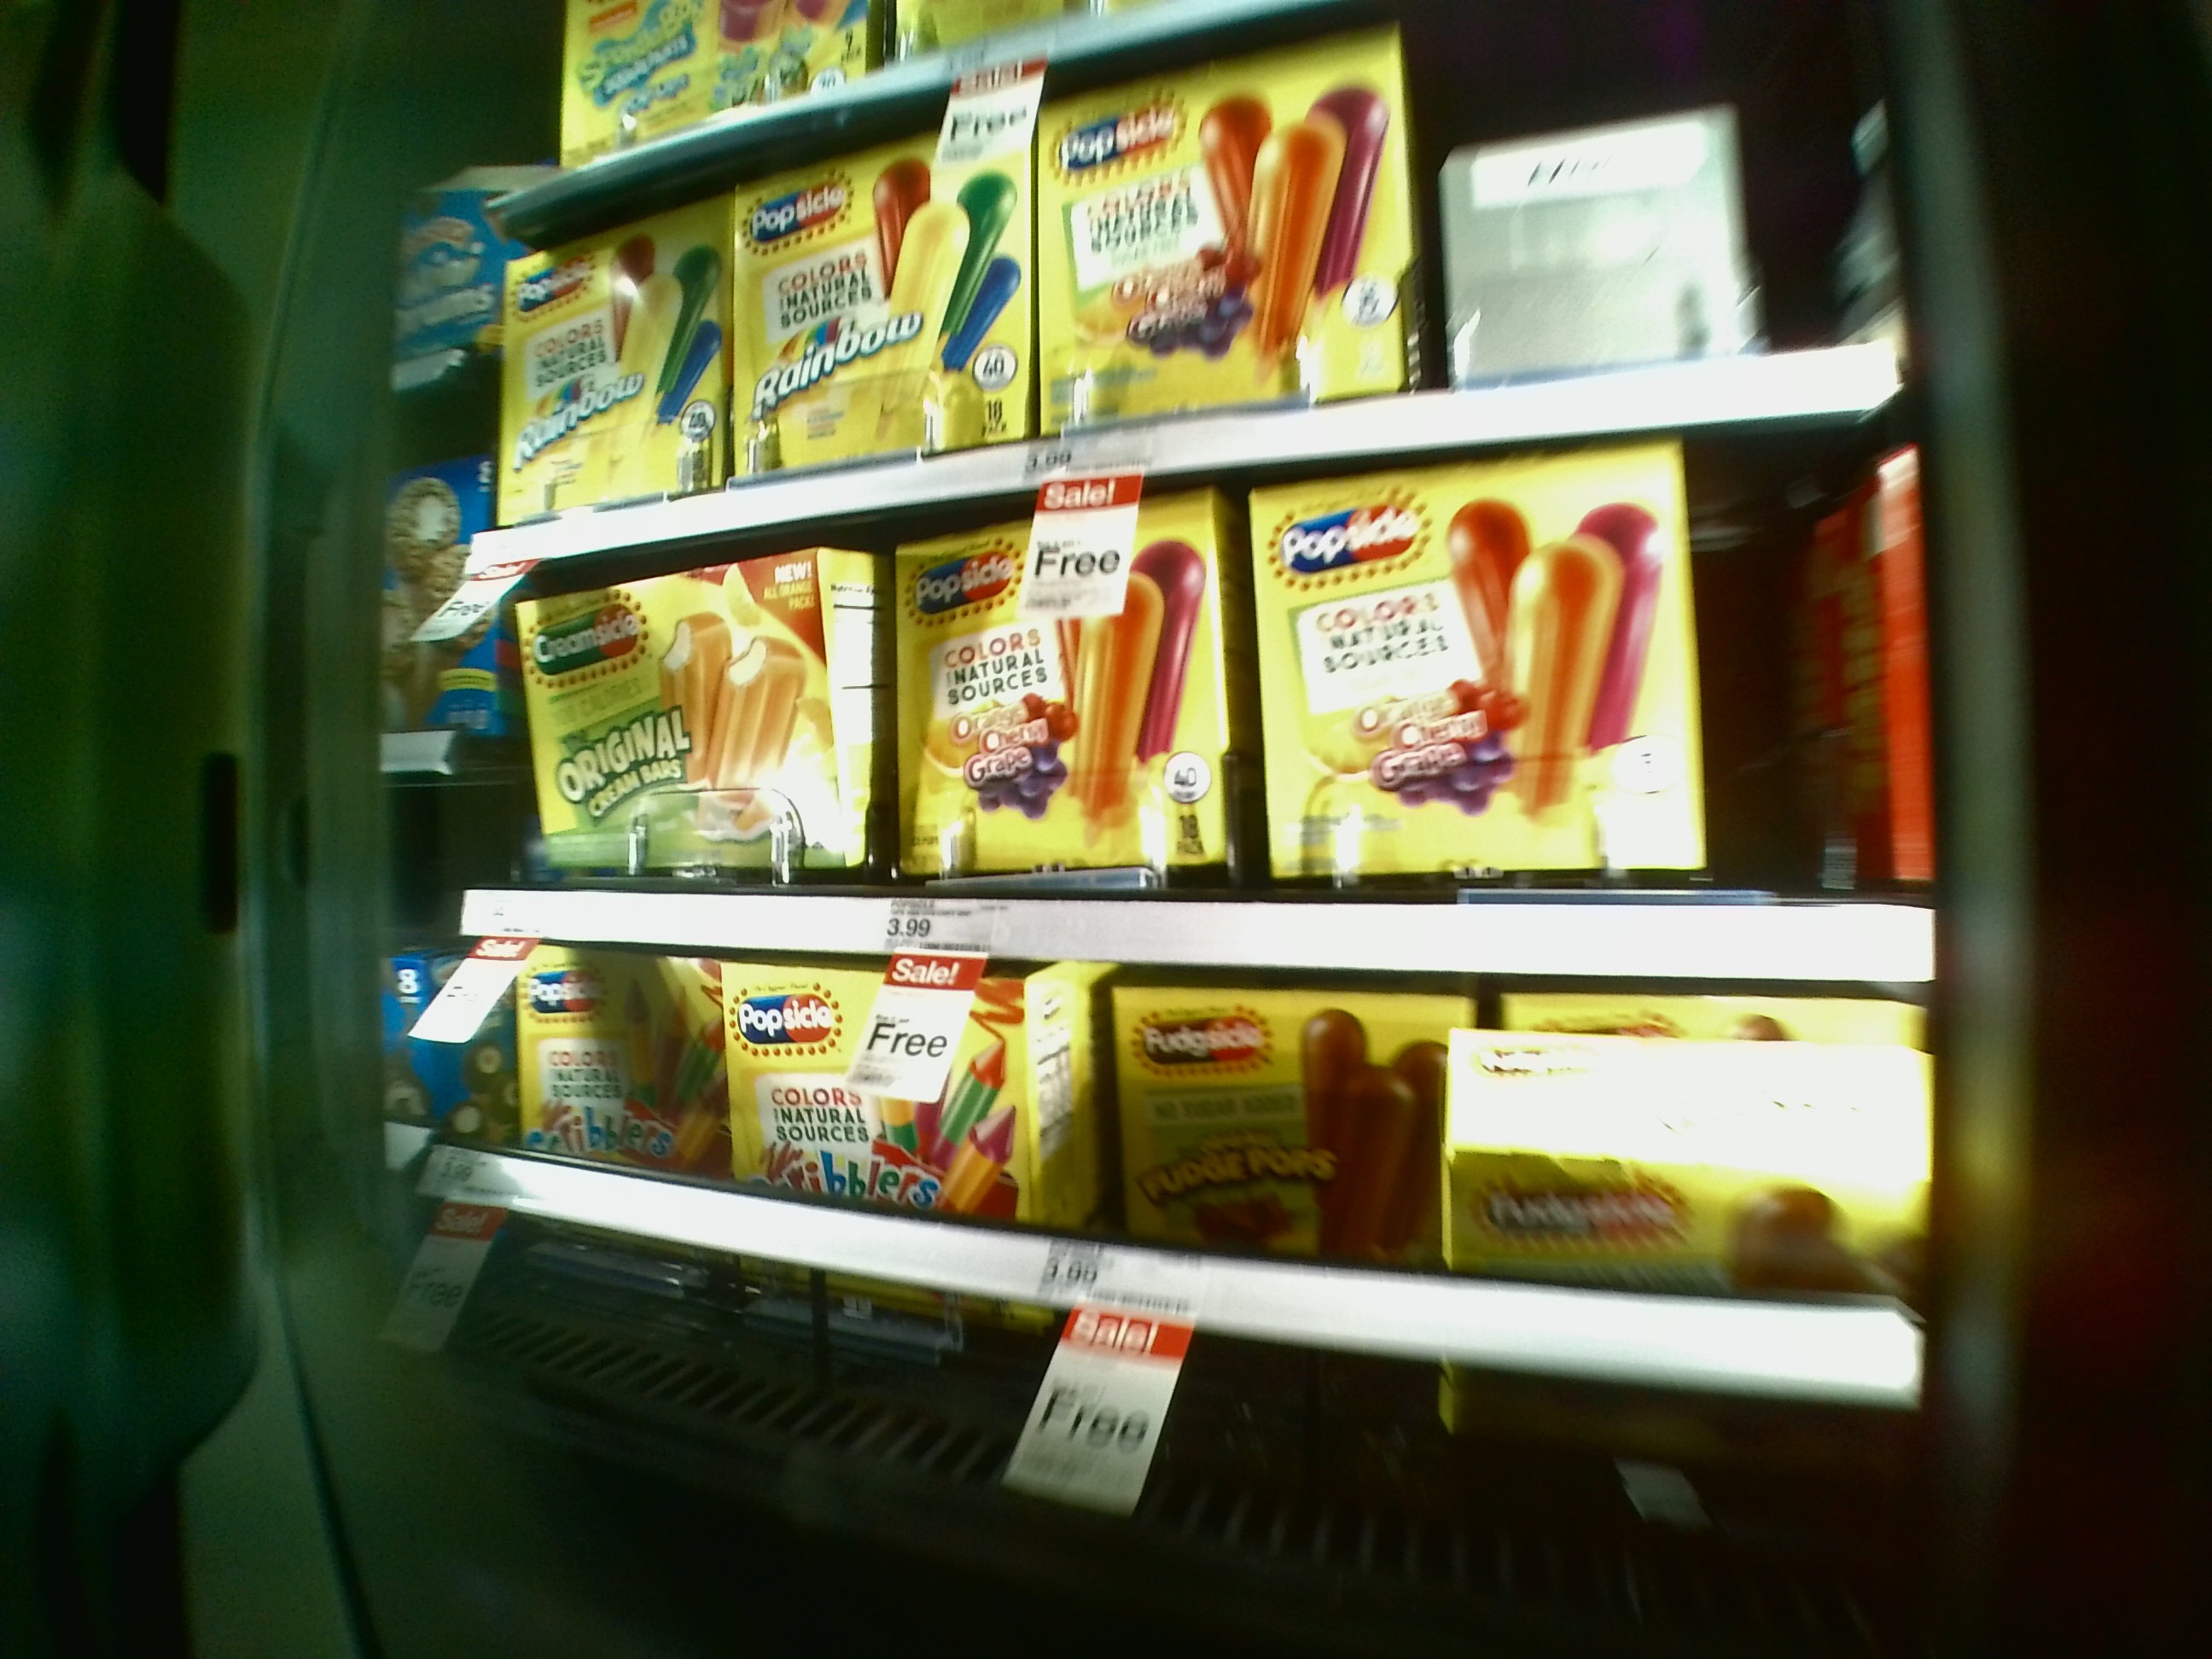shelf: (437, 948, 1958, 1513), (465, 498, 1928, 965), (489, 82, 1855, 502)
